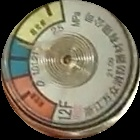green: (5, 40, 36, 78)
needle: (16, 42, 50, 55)
red: (6, 77, 58, 122)
yellow: (14, 3, 66, 45)
